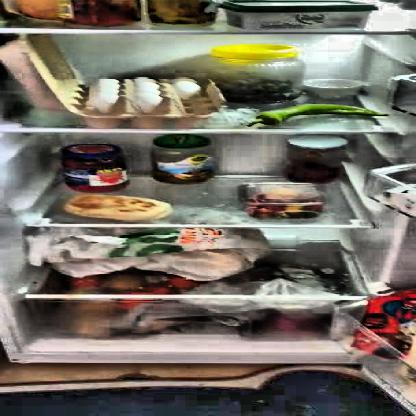cream_cheese: (224, 0, 367, 30)
eggs: (95, 79, 206, 115)
green_chillies: (246, 105, 380, 125)
olives: (220, 76, 298, 99)
